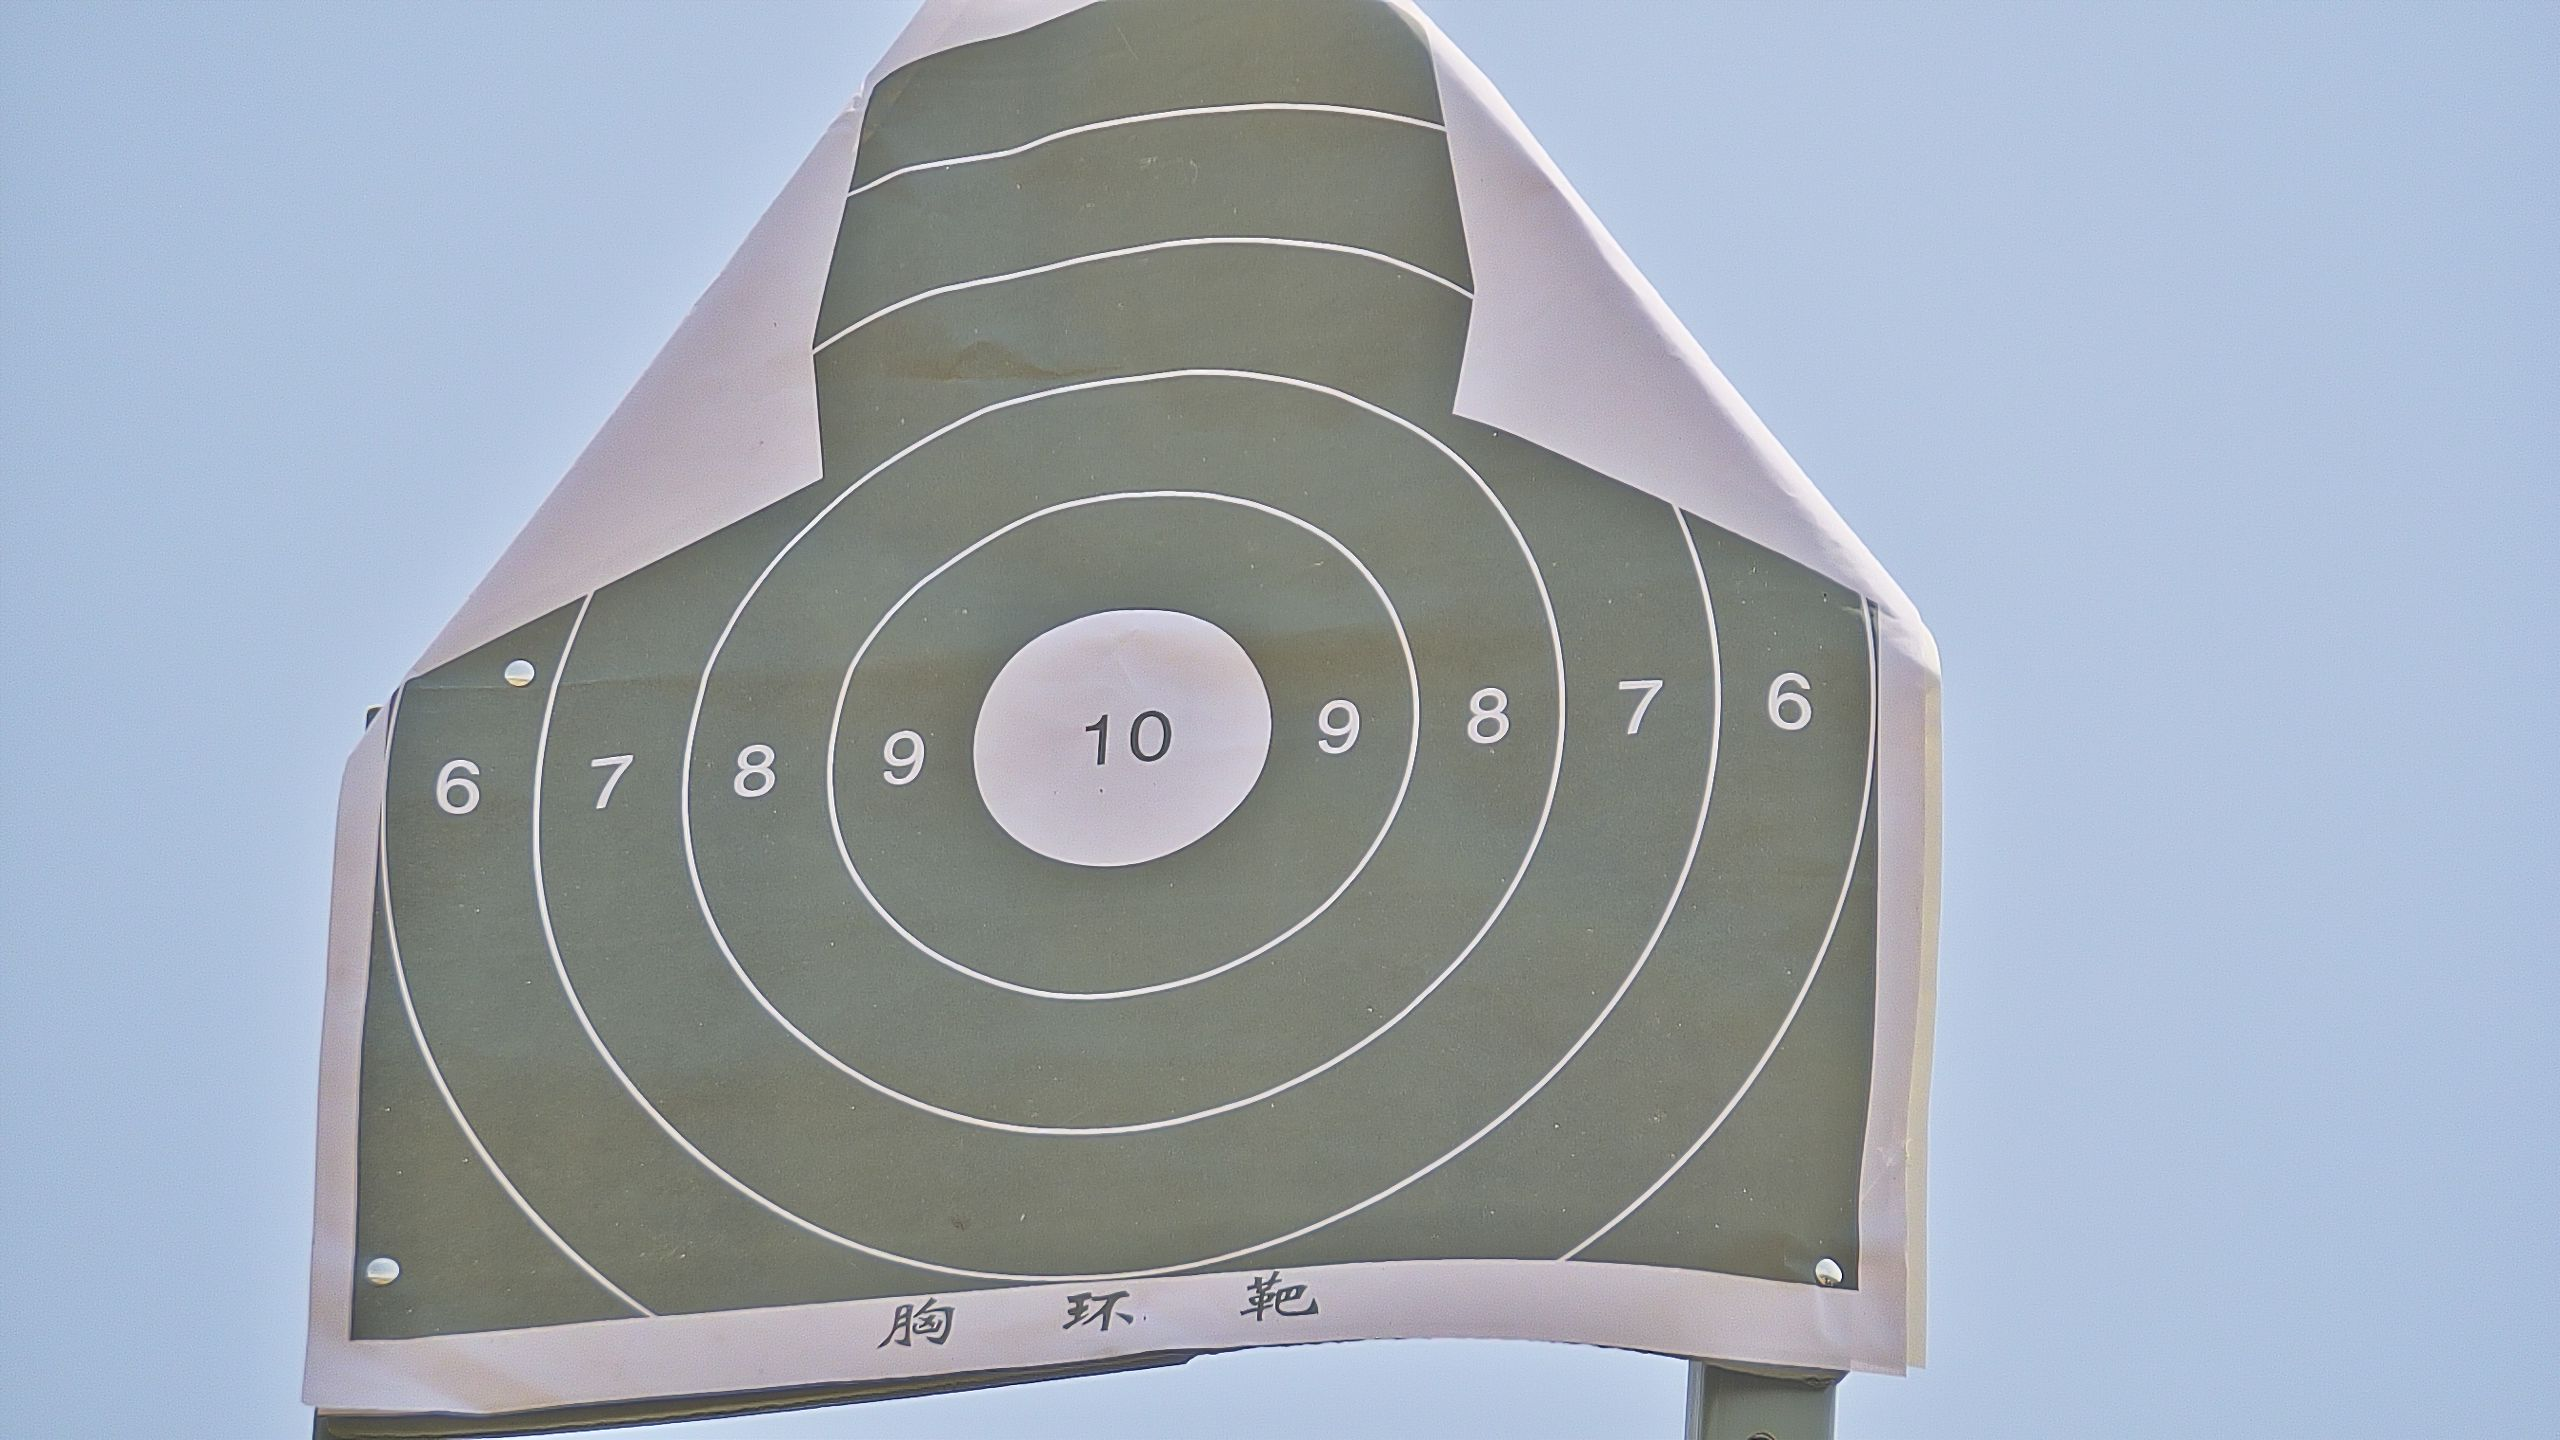kernel: (1115, 737, 1120, 738)
target: (346, 5, 1867, 1349)
ten: (972, 601, 1273, 874)
